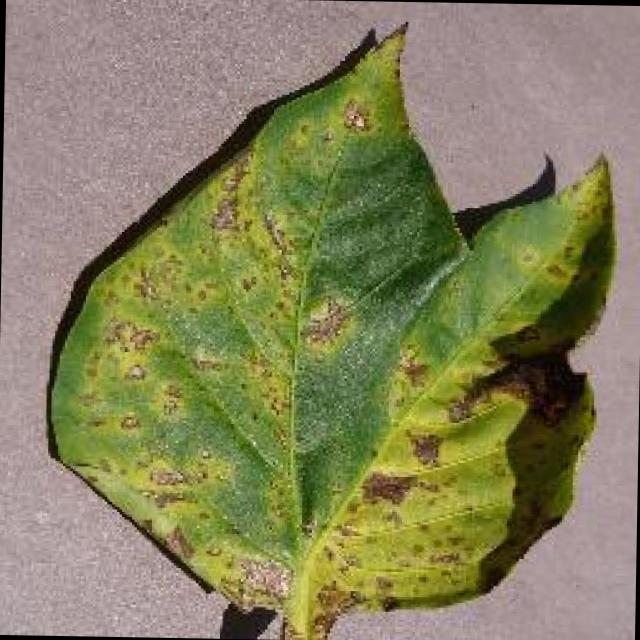Chilli_Bacterial_Spot: (37, 12, 623, 640), (230, 554, 293, 612), (300, 292, 352, 350), (102, 314, 160, 357), (357, 468, 415, 509), (402, 426, 446, 469), (204, 193, 242, 236), (150, 380, 187, 420), (336, 95, 372, 136), (113, 408, 143, 436), (119, 359, 149, 385)
